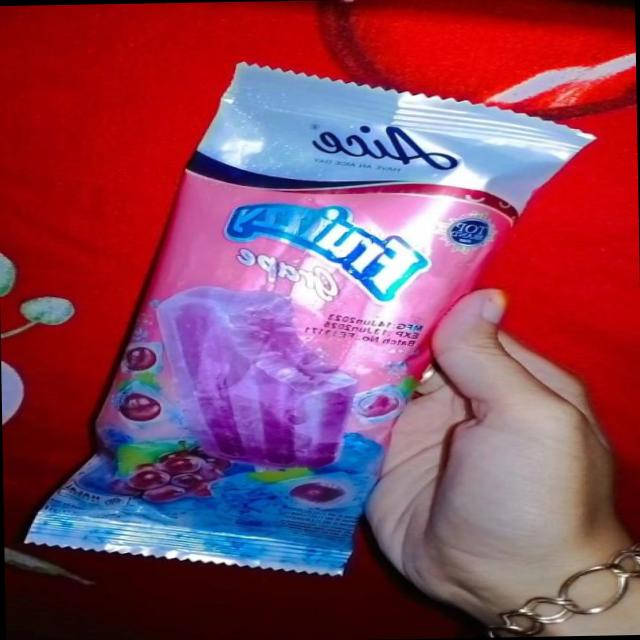KemasanPlastik: (16, 52, 606, 580)
